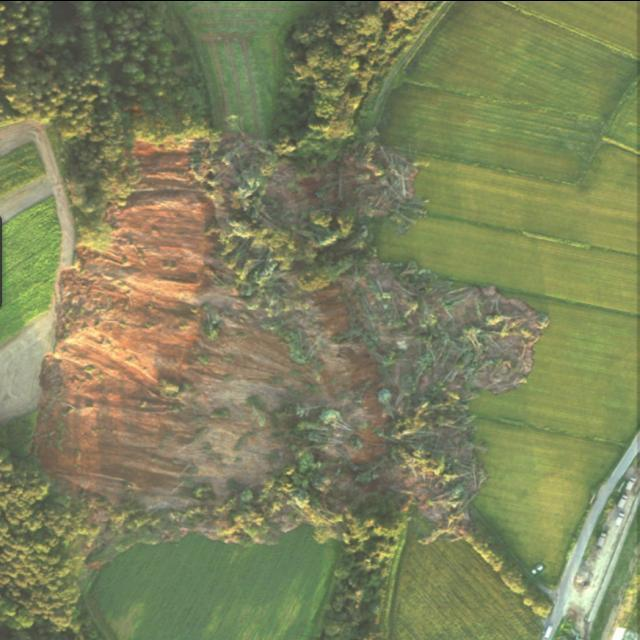landslide: (38, 136, 550, 616)
